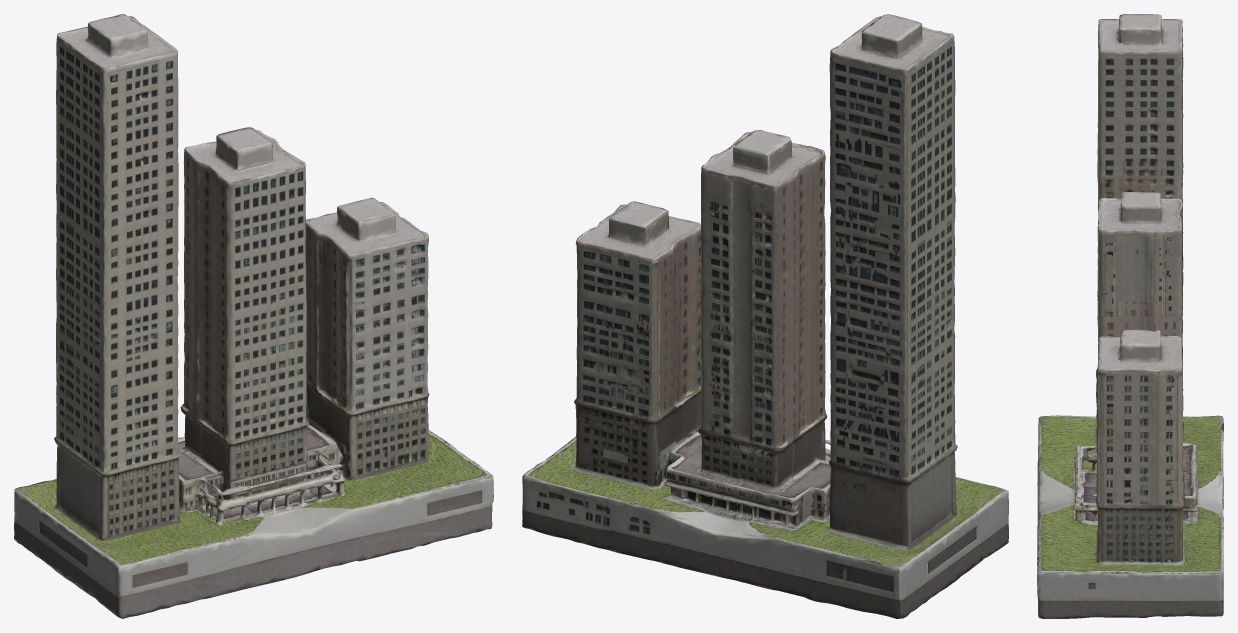
The model's file is 롯데_원경아파트.glb.
The picture shows the model from 3 angles, left to right: view 1: azimuth 30°, elevation 25°; view 2: azimuth 150°, elevation 25°; view 3: azimuth 270°, elevation 25°; orthographic projection. The views are drawn at different scales.
Visible parts, largest first — view 1: texture_mapping; view 2: texture_mapping; view 3: texture_mapping.
Part boxes in pixels (x1,y1,x2,y2): texture_mapping: (14, 14, 493, 618); texture_mapping: (522, 14, 1008, 618); texture_mapping: (1037, 14, 1223, 618).
Bounding box in the file's own units: 0.7299 × 0.9987 × 0.3644.
1 material, 1 textured.
